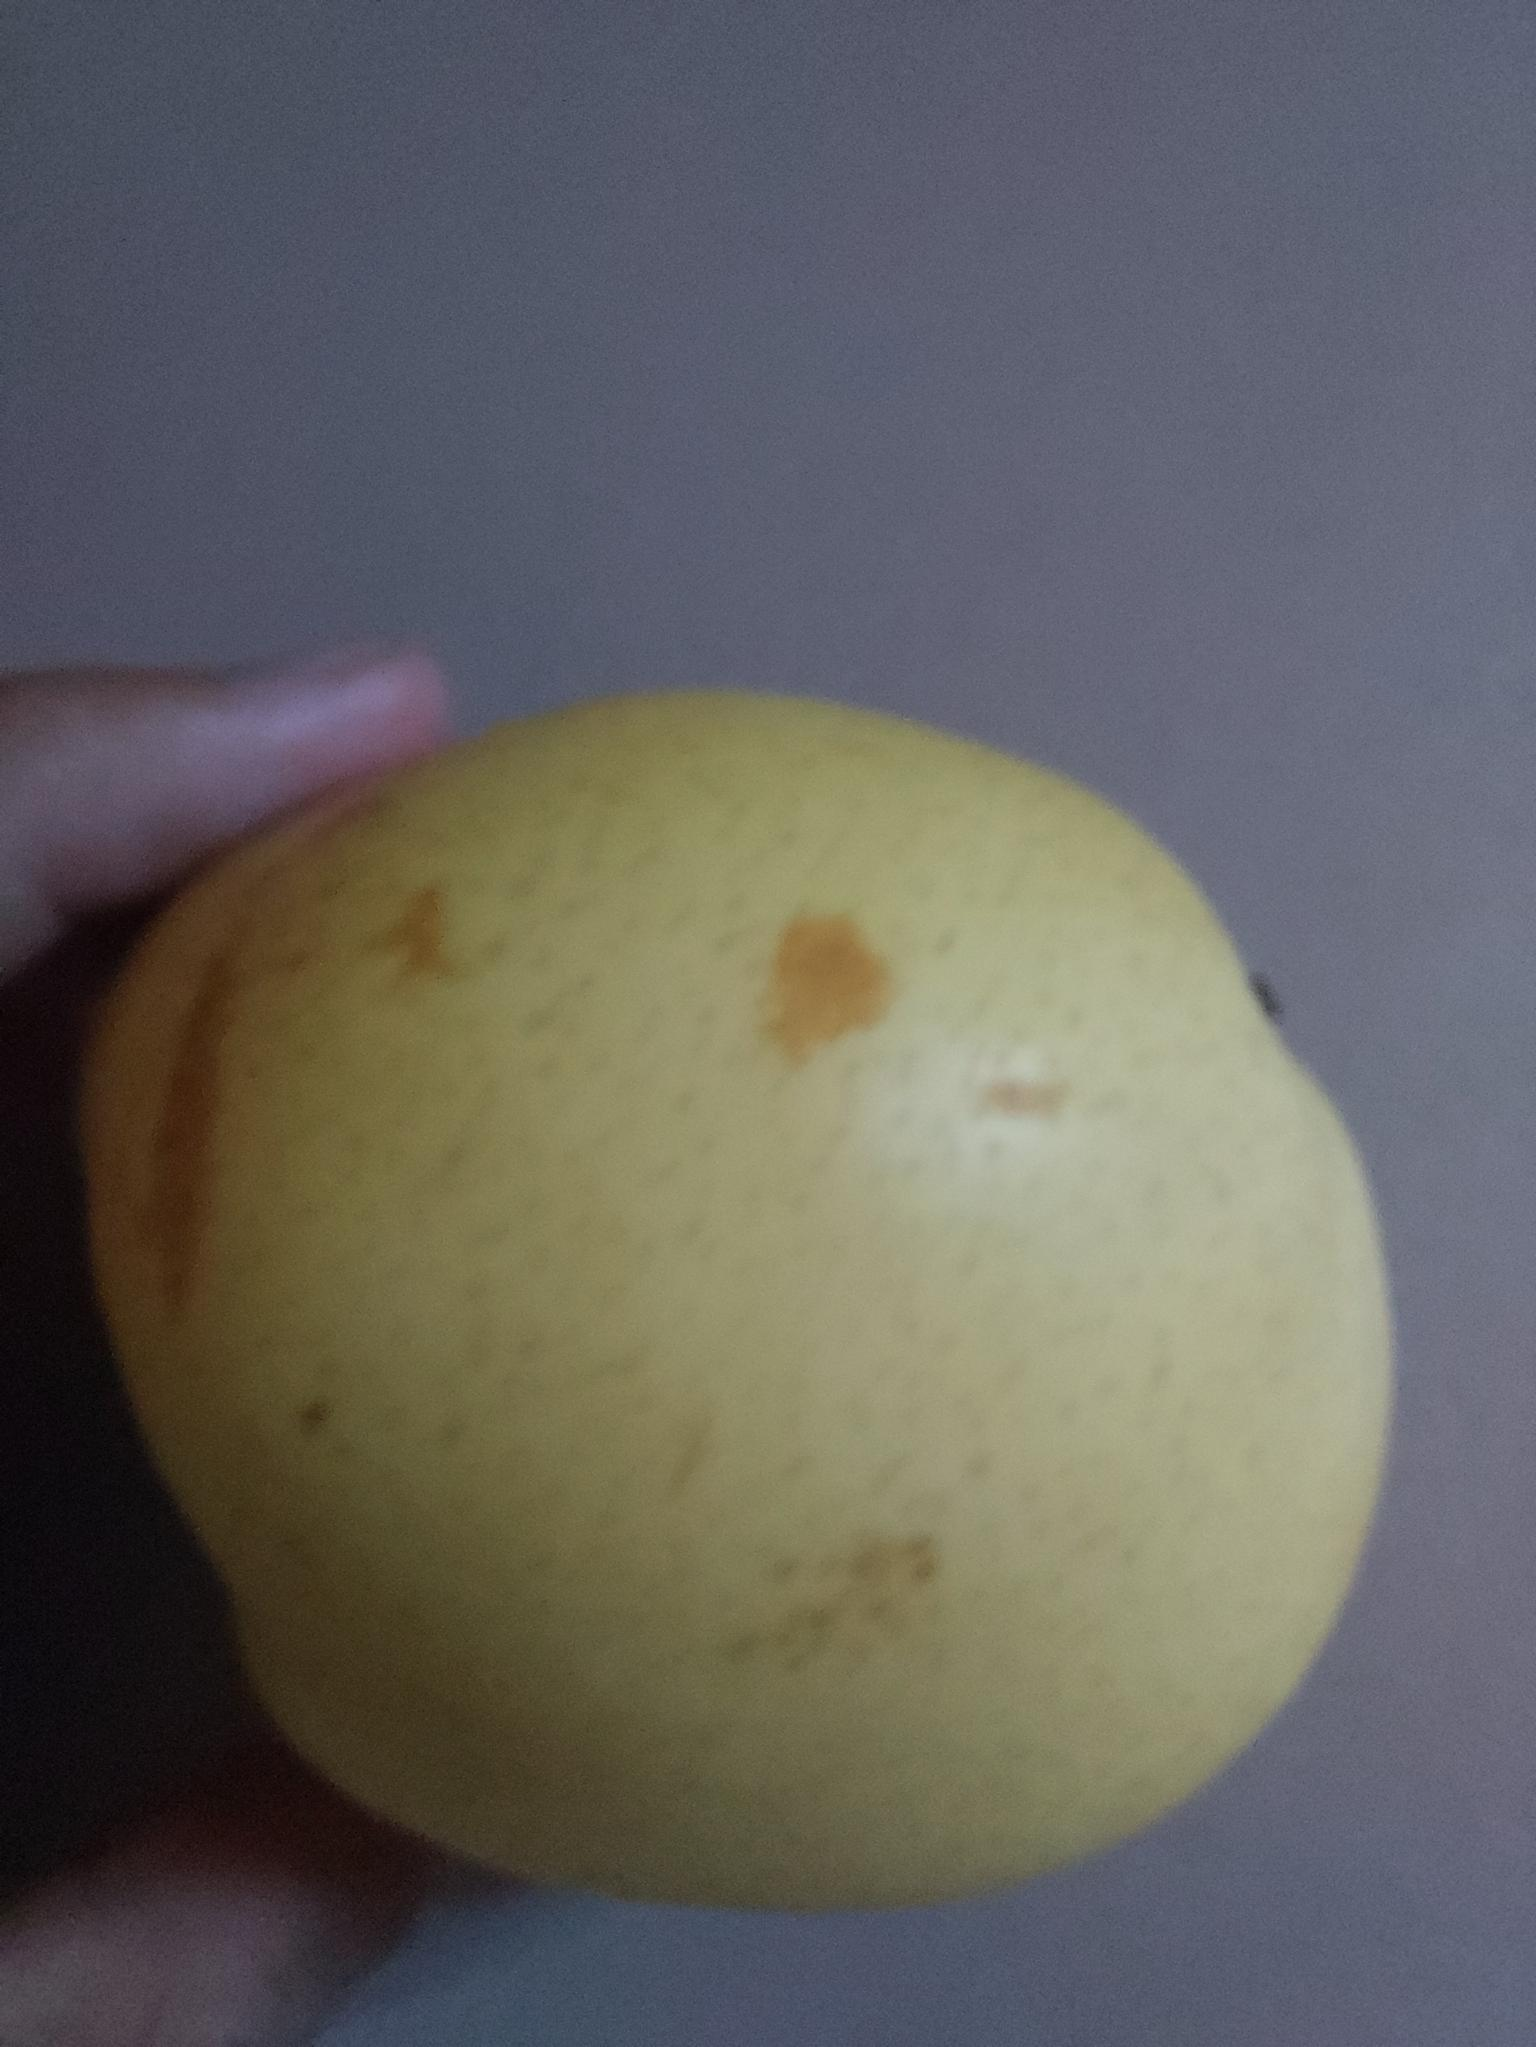Good Pear: (84, 686, 1391, 1912)
